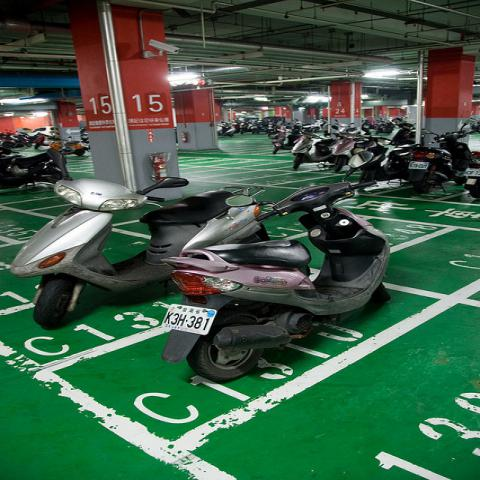motorcycle: (159, 152, 392, 382), (8, 176, 262, 331), (403, 118, 479, 194), (0, 148, 75, 192), (329, 126, 382, 172), (291, 131, 340, 170), (48, 136, 90, 157), (270, 127, 301, 154), (463, 150, 479, 199), (292, 120, 316, 136), (267, 122, 287, 137)
